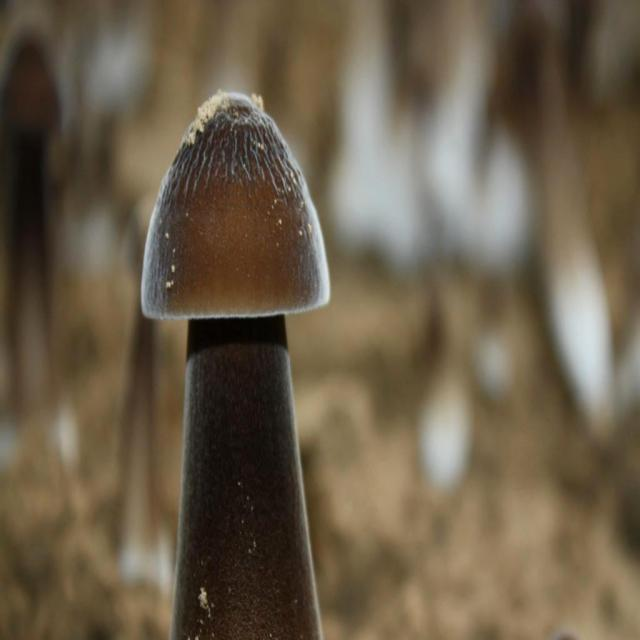Collybia albuminosa: (143, 90, 331, 640)
